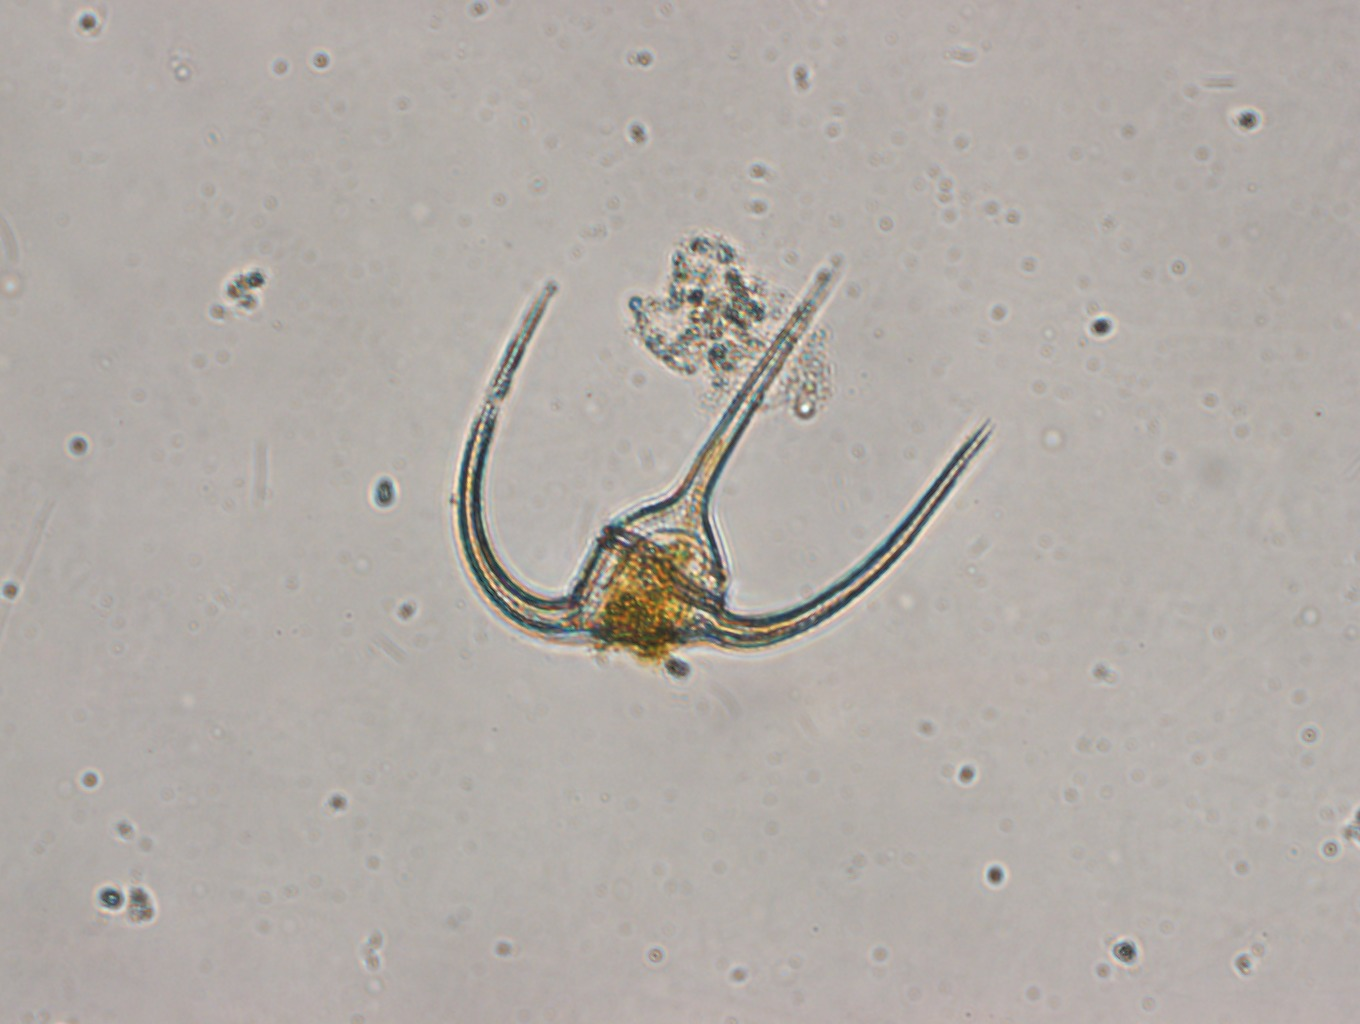ceratium trichoceros: (439, 246, 1002, 667)
